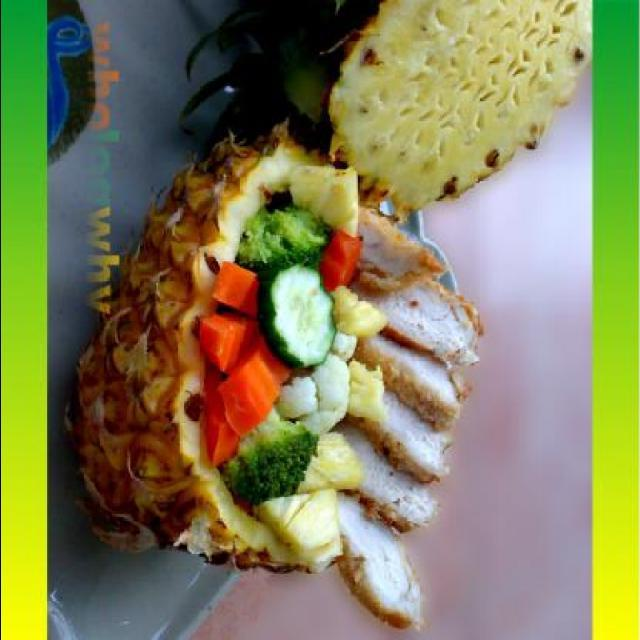Pineapple: (58, 0, 592, 575)
